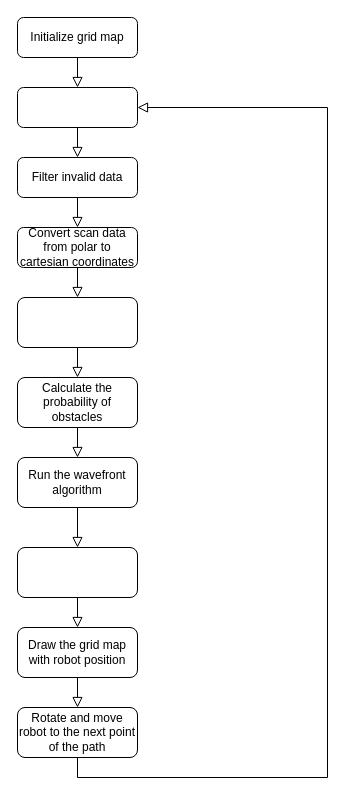
This 355x805 diagram has some shape labels left out. The centre of each missing label's shape, as x and y in pixels:
Assign the path: point 77,572
Read laser scan and pose of the robot: point 77,107
Rotate the point cloud according to the robot pose and translate it: point 77,322
